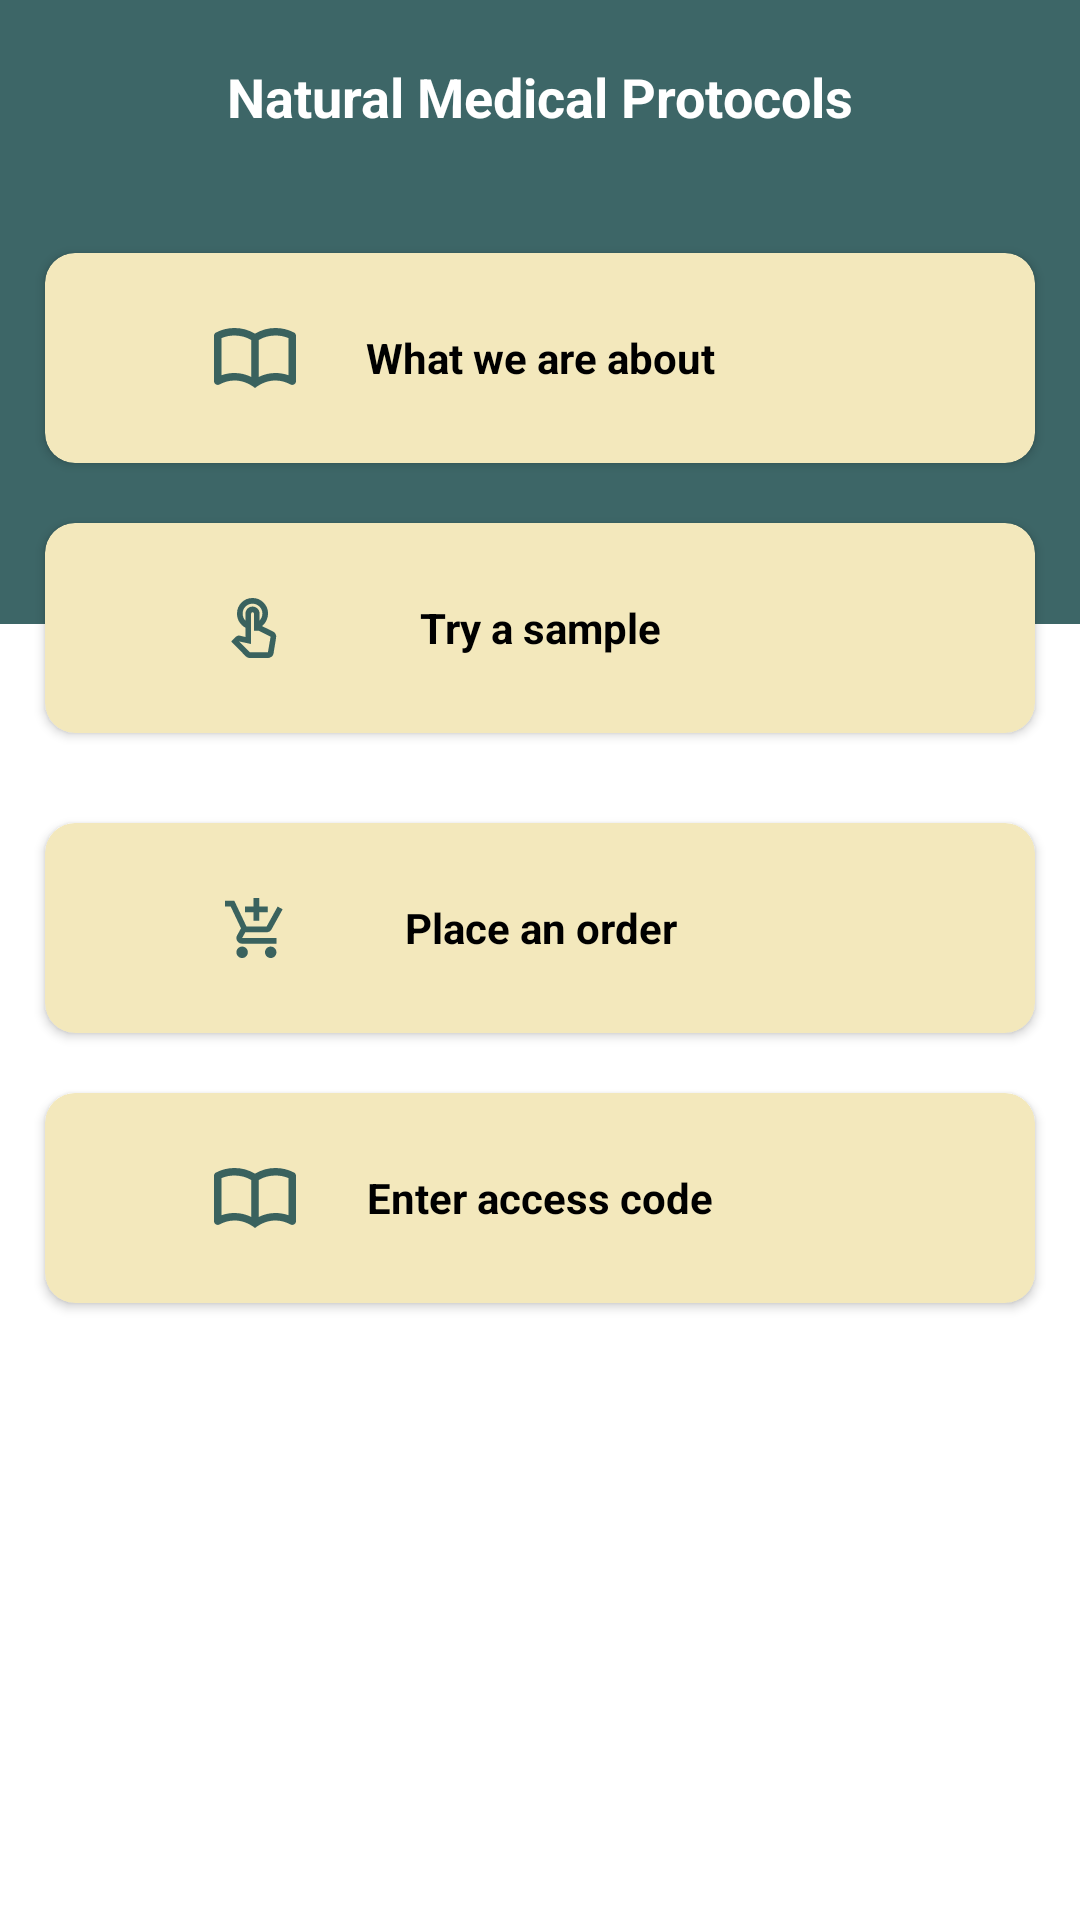

Screen size 1080w x 1920h. Icon name, then its center in pixels as (x=x, y=y):
book: (x=255, y=358), (x=255, y=1198)
